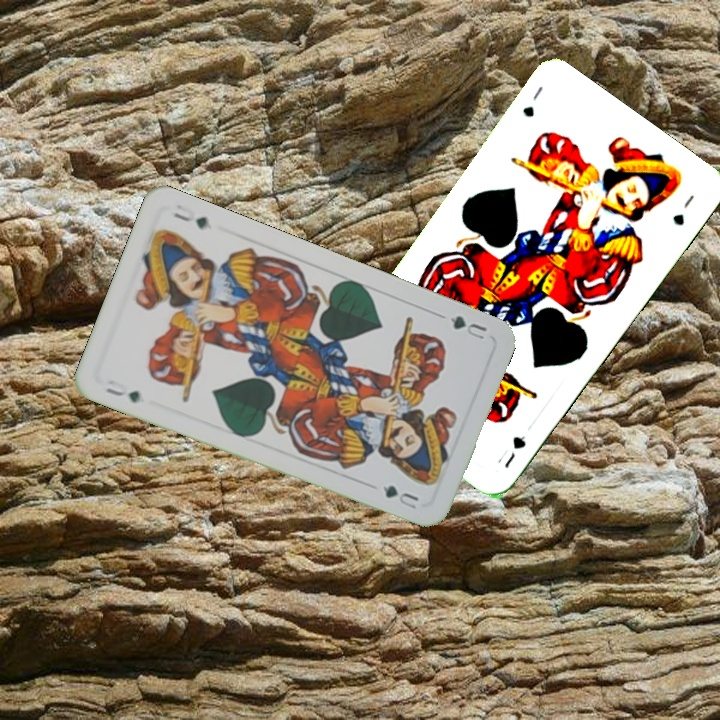GU: (445, 311, 490, 342), (500, 431, 529, 471), (518, 81, 546, 120), (102, 383, 143, 406)
